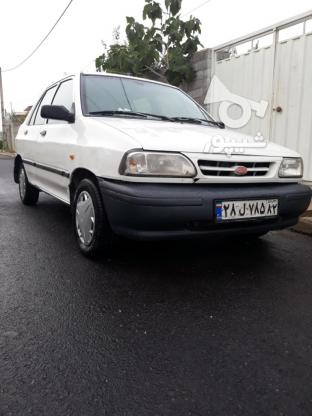car: (211, 197, 280, 221)
